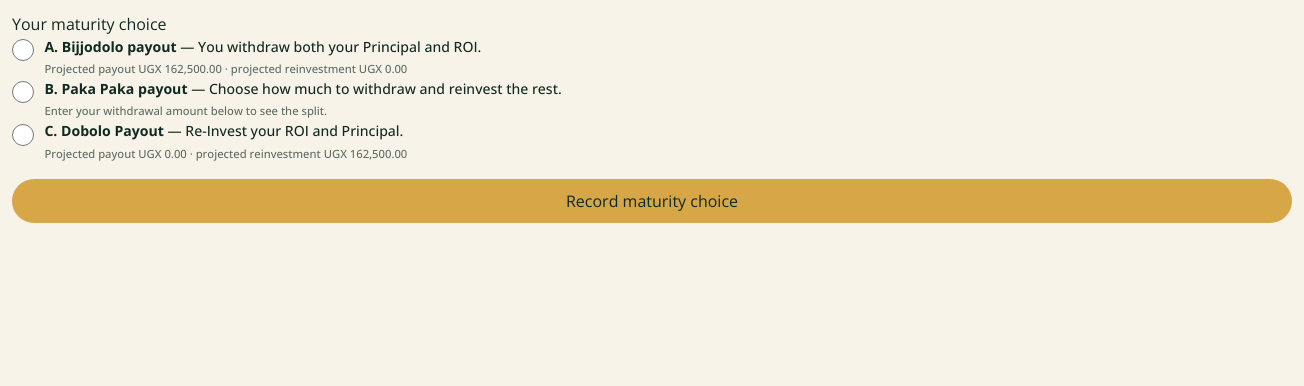
Test case: automatic reinvestment cycle assignment › shows the assigned cycle instead of a dropdown
Click the radio button labelled "C. Dobolo" at (23, 135), box [12, 124, 34, 146]
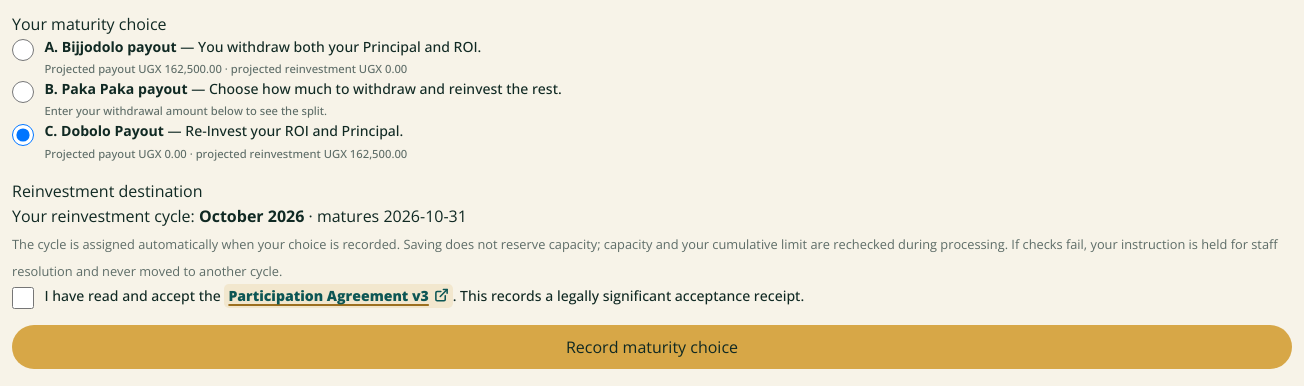
Check: the text "Your reinvestment cycle: October 2026 · matures 2026-10-31" is shown, box [12, 205, 467, 227]
